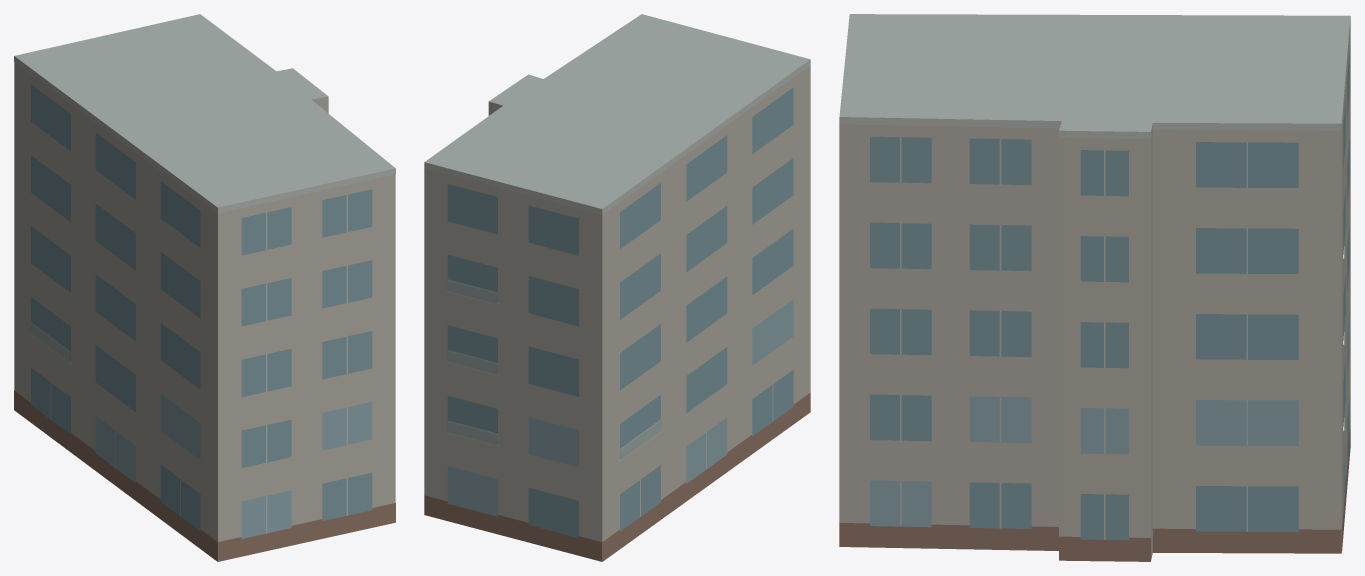
Rendered from survey-upis-32596148.glb.
The picture shows the model from 3 angles, left to right: view 1: azimuth 30°, elevation 25°; view 2: azimuth 150°, elevation 25°; view 3: azimuth 270°, elevation 25°; orthographic projection. The views are drawn at different scales.
Visible parts, largest first — view 1: survey-upis-32596148.tmp; view 2: survey-upis-32596148.tmp; view 3: survey-upis-32596148.tmp.
Part boxes in pixels (box(x1,y1,x2,y2)): survey-upis-32596148.tmp: box(14, 14, 395, 561); survey-upis-32596148.tmp: box(424, 14, 810, 561); survey-upis-32596148.tmp: box(839, 14, 1350, 561).
Size of the model in its own units: 8.54 by 14.5 by 15.64.
